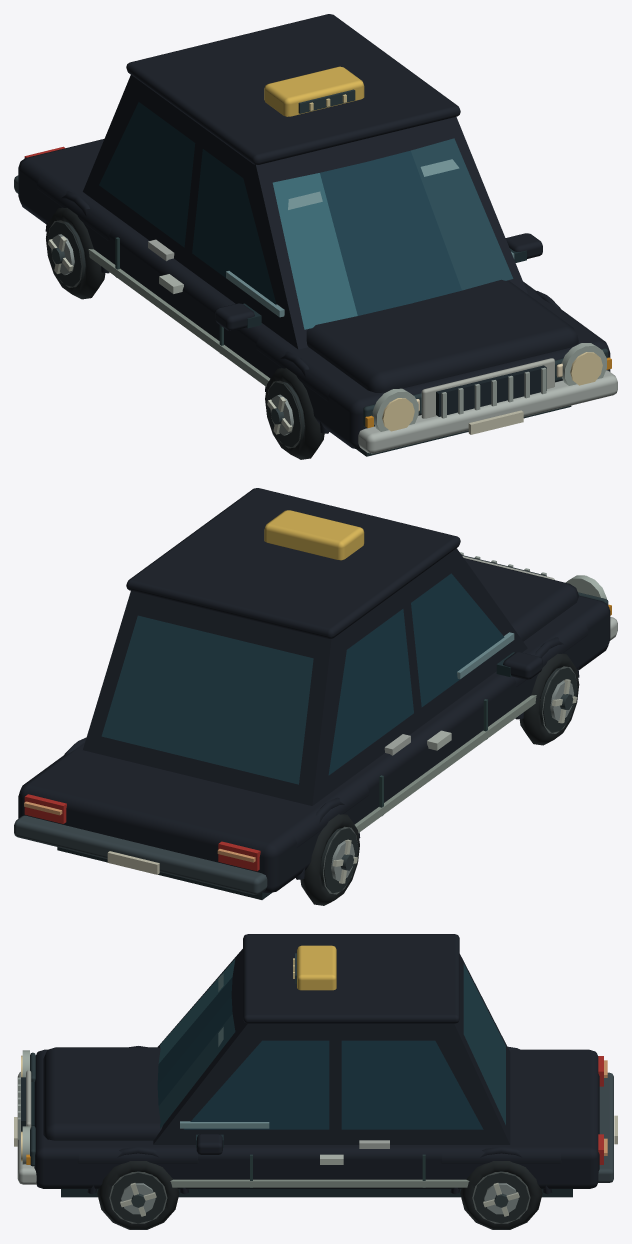
Rendered from blackcab.glb.
3 renders of one model, top to bottom at view 1: azimuth 30°, elevation 25°; view 2: azimuth 150°, elevation 25°; view 3: azimuth 270°, elevation 25°, orthographic. The views are drawn at different scales.
Parts seen in each view (by area): view 1: blackcab_body; view 2: blackcab_body; view 3: blackcab_body.
Boxes of the visible parts, box(x1,y1,x2,y2) form: blackcab_body: box(14, 14, 617, 459); blackcab_body: box(14, 488, 617, 905); blackcab_body: box(14, 934, 617, 1229).
Bounding box in the file's own units: 2.29 × 1.82 × 4.57.
